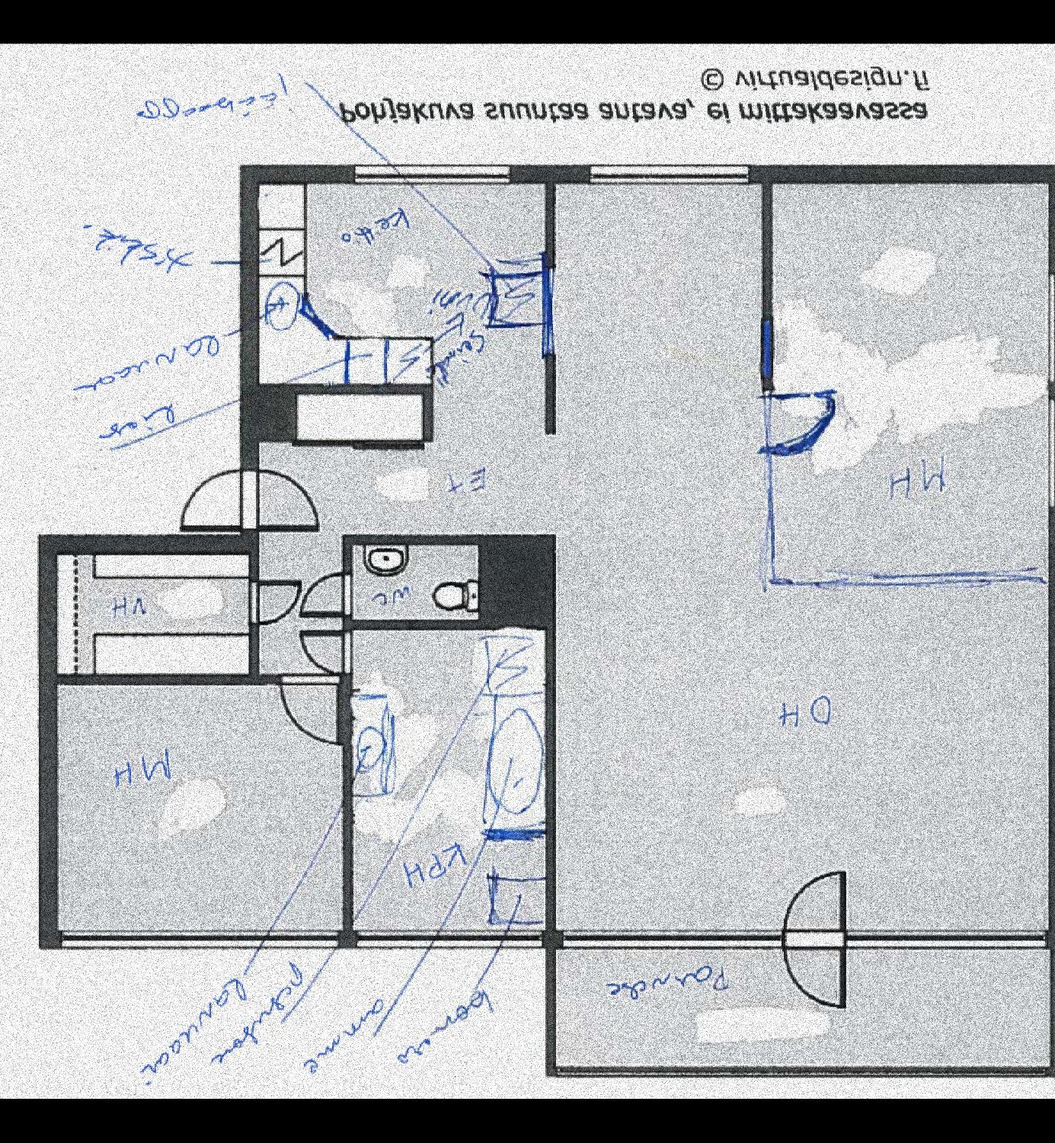door: (780, 868, 849, 1012), (168, 470, 320, 533), (749, 389, 837, 468), (278, 671, 336, 743), (301, 571, 354, 620), (243, 585, 301, 626), (299, 634, 352, 672)
window: (352, 161, 506, 185), (589, 163, 744, 186), (1043, 397, 1055, 504), (1051, 277, 1055, 381)
zone: (254, 189, 1045, 935), (760, 189, 1055, 584), (58, 685, 335, 929), (553, 950, 1049, 1069), (355, 637, 548, 933), (58, 552, 252, 675), (349, 544, 481, 623)
